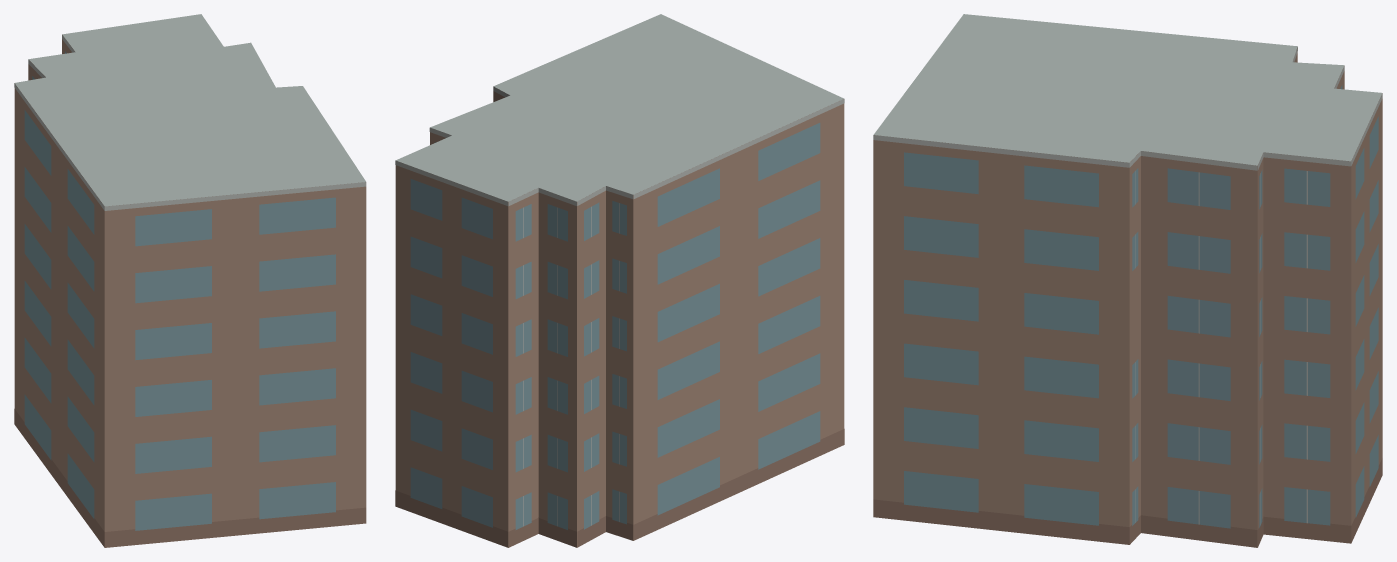
File: survey-upis-32529104.glb
The picture shows the model from 3 angles, left to right: view 1: azimuth 30°, elevation 25°; view 2: azimuth 150°, elevation 25°; view 3: azimuth 270°, elevation 25°; orthographic projection. The views are drawn at different scales.
Parts seen in each view (by area): view 1: survey-upis-32529104.tmp; view 2: survey-upis-32529104.tmp; view 3: survey-upis-32529104.tmp.
Boxes of the visible parts, x1,y1,x2,y2 form: survey-upis-32529104.tmp: [14, 14, 366, 547]; survey-upis-32529104.tmp: [395, 14, 844, 547]; survey-upis-32529104.tmp: [873, 14, 1382, 547].
Size of the model in its own units: 15.58 by 18.3 by 22.1.
